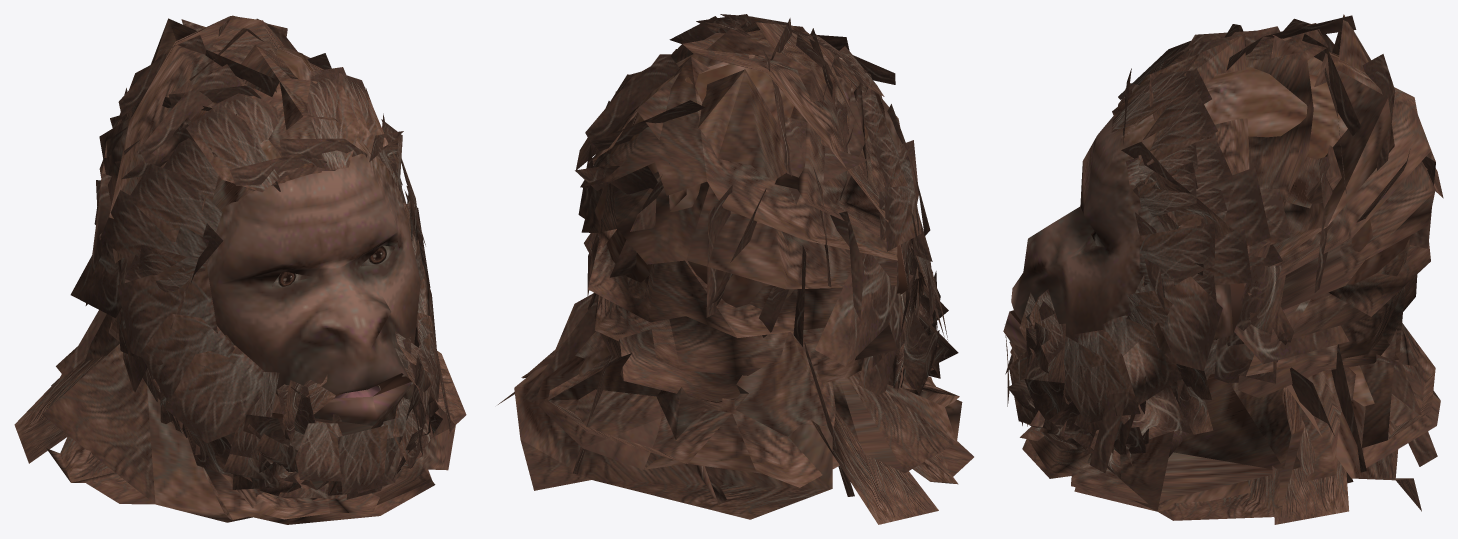
The model's file is BigFootHead_Ground.fbx.
3 views of the same model, side by side, from view 1: azimuth 30°, elevation 25°; view 2: azimuth 150°, elevation 25°; view 3: azimuth 270°, elevation 25° (orthographic). The views are drawn at different scales.
Parts seen in each view (by area): view 1: BigFootHead; view 2: BigFootHead; view 3: BigFootHead.
Part boxes in pixels (box(x1,y1,x2,y2)): BigFootHead: box(14, 15, 466, 524); BigFootHead: box(498, 14, 973, 524); BigFootHead: box(1003, 14, 1443, 524).
Size of the model in its own units: 0.1994 by 0.1975 by 0.1838.
